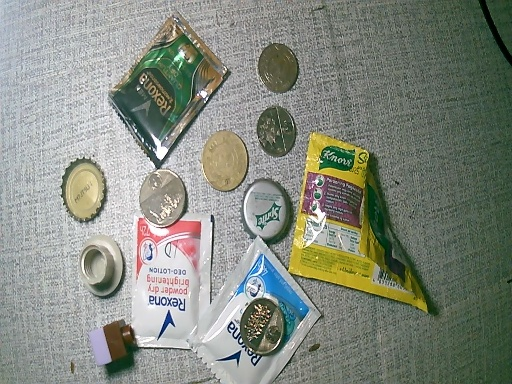metal: (56, 156, 108, 224), (242, 181, 291, 242), (138, 169, 187, 228), (202, 131, 247, 192), (239, 299, 286, 355), (258, 42, 300, 95), (256, 104, 297, 158)
plastic: (286, 131, 433, 314), (190, 237, 320, 384), (107, 12, 227, 167), (130, 212, 213, 354)
trash: (79, 235, 123, 300), (86, 320, 134, 368)
